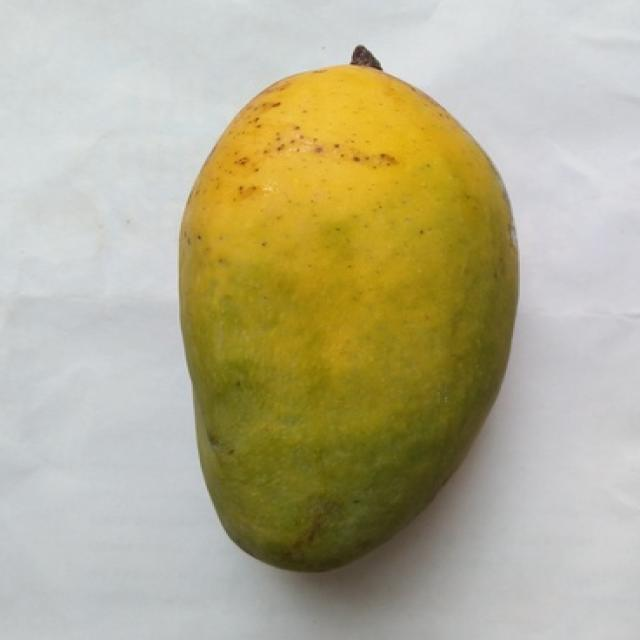Mango: (181, 67, 517, 570)
